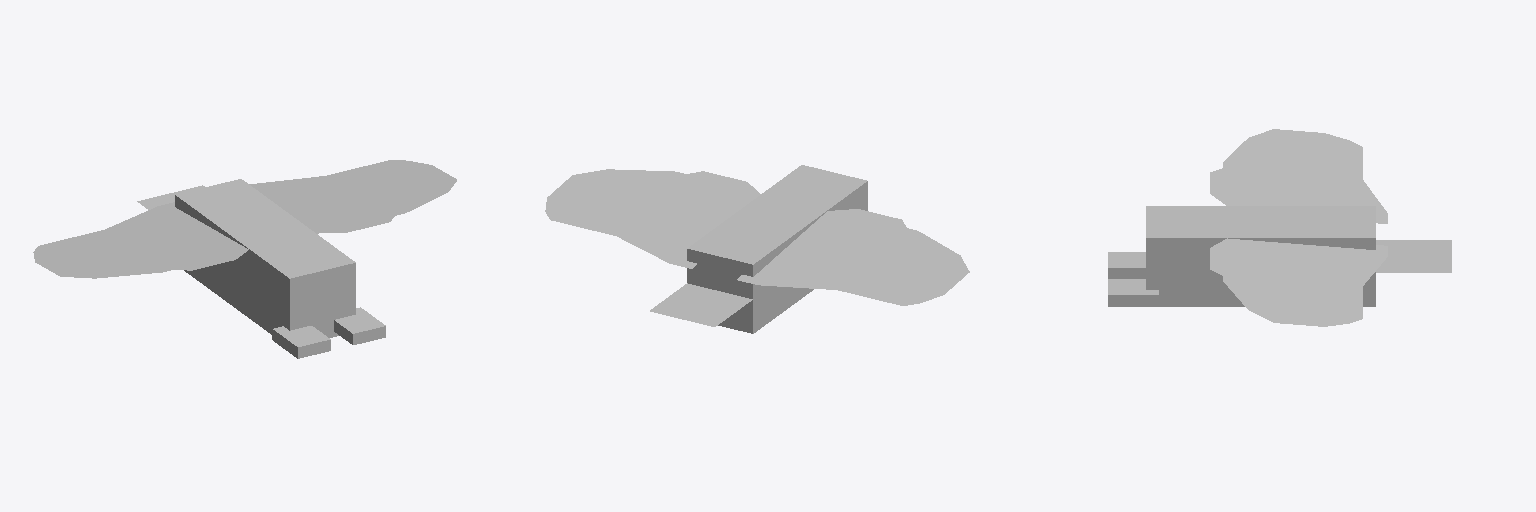
File: BatTest.obj
The picture shows the model from 3 angles: view 1: azimuth 30°, elevation 25°; view 2: azimuth 150°, elevation 25°; view 3: azimuth 270°, elevation 25°; orthographic projection.
Parts seen in each view (by area): view 1: Body_bat; view 2: Body_bat; view 3: Body_bat.
Boxes of the visible parts, <box> form: Body_bat: <box>33,160,456,358</box>; Body_bat: <box>545,165,969,333</box>; Body_bat: <box>1108,129,1451,326</box>.
Bounding box in the file's own units: 4.57 × 0.7694 × 3.42.